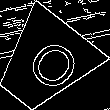O_SW: (10, 30, 78, 97)
